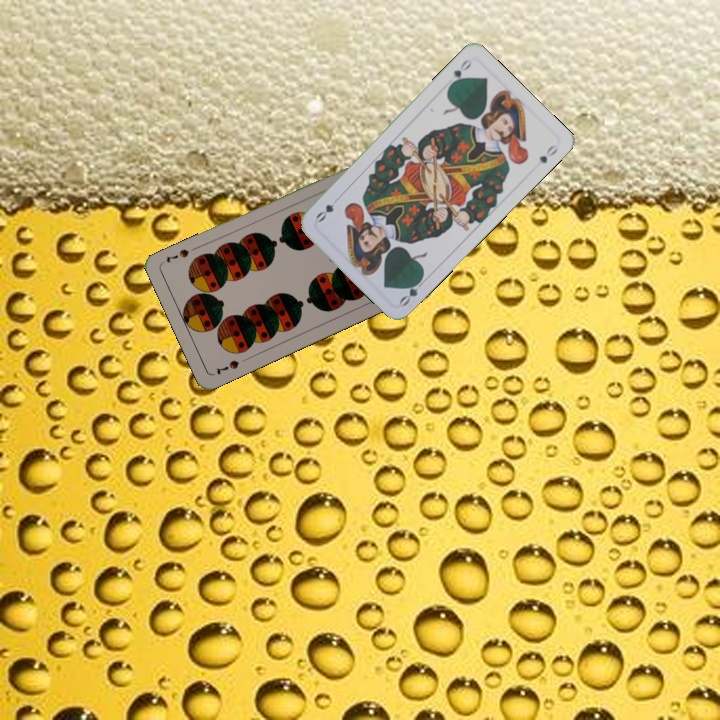GO: (395, 273, 429, 309), (445, 55, 474, 90)
S7: (212, 356, 242, 377)
